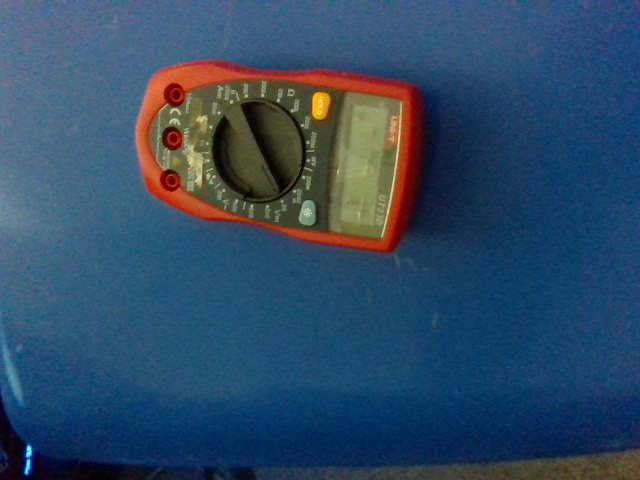multimeter: (134, 59, 424, 257)
